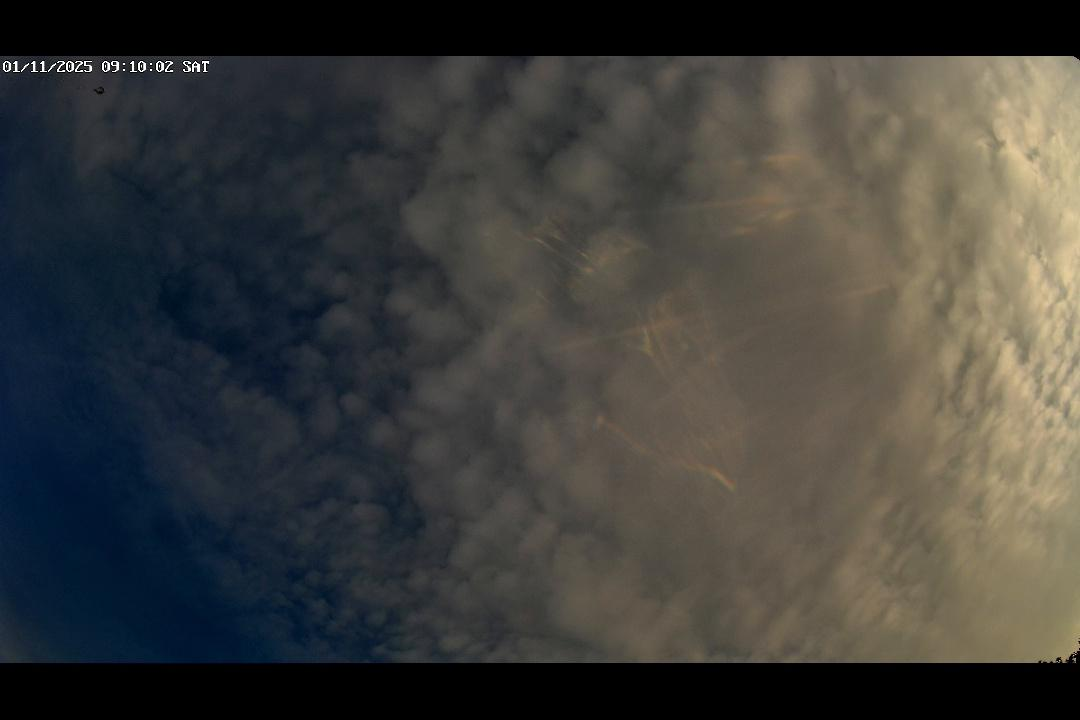WildLife: (84, 86, 118, 97)
